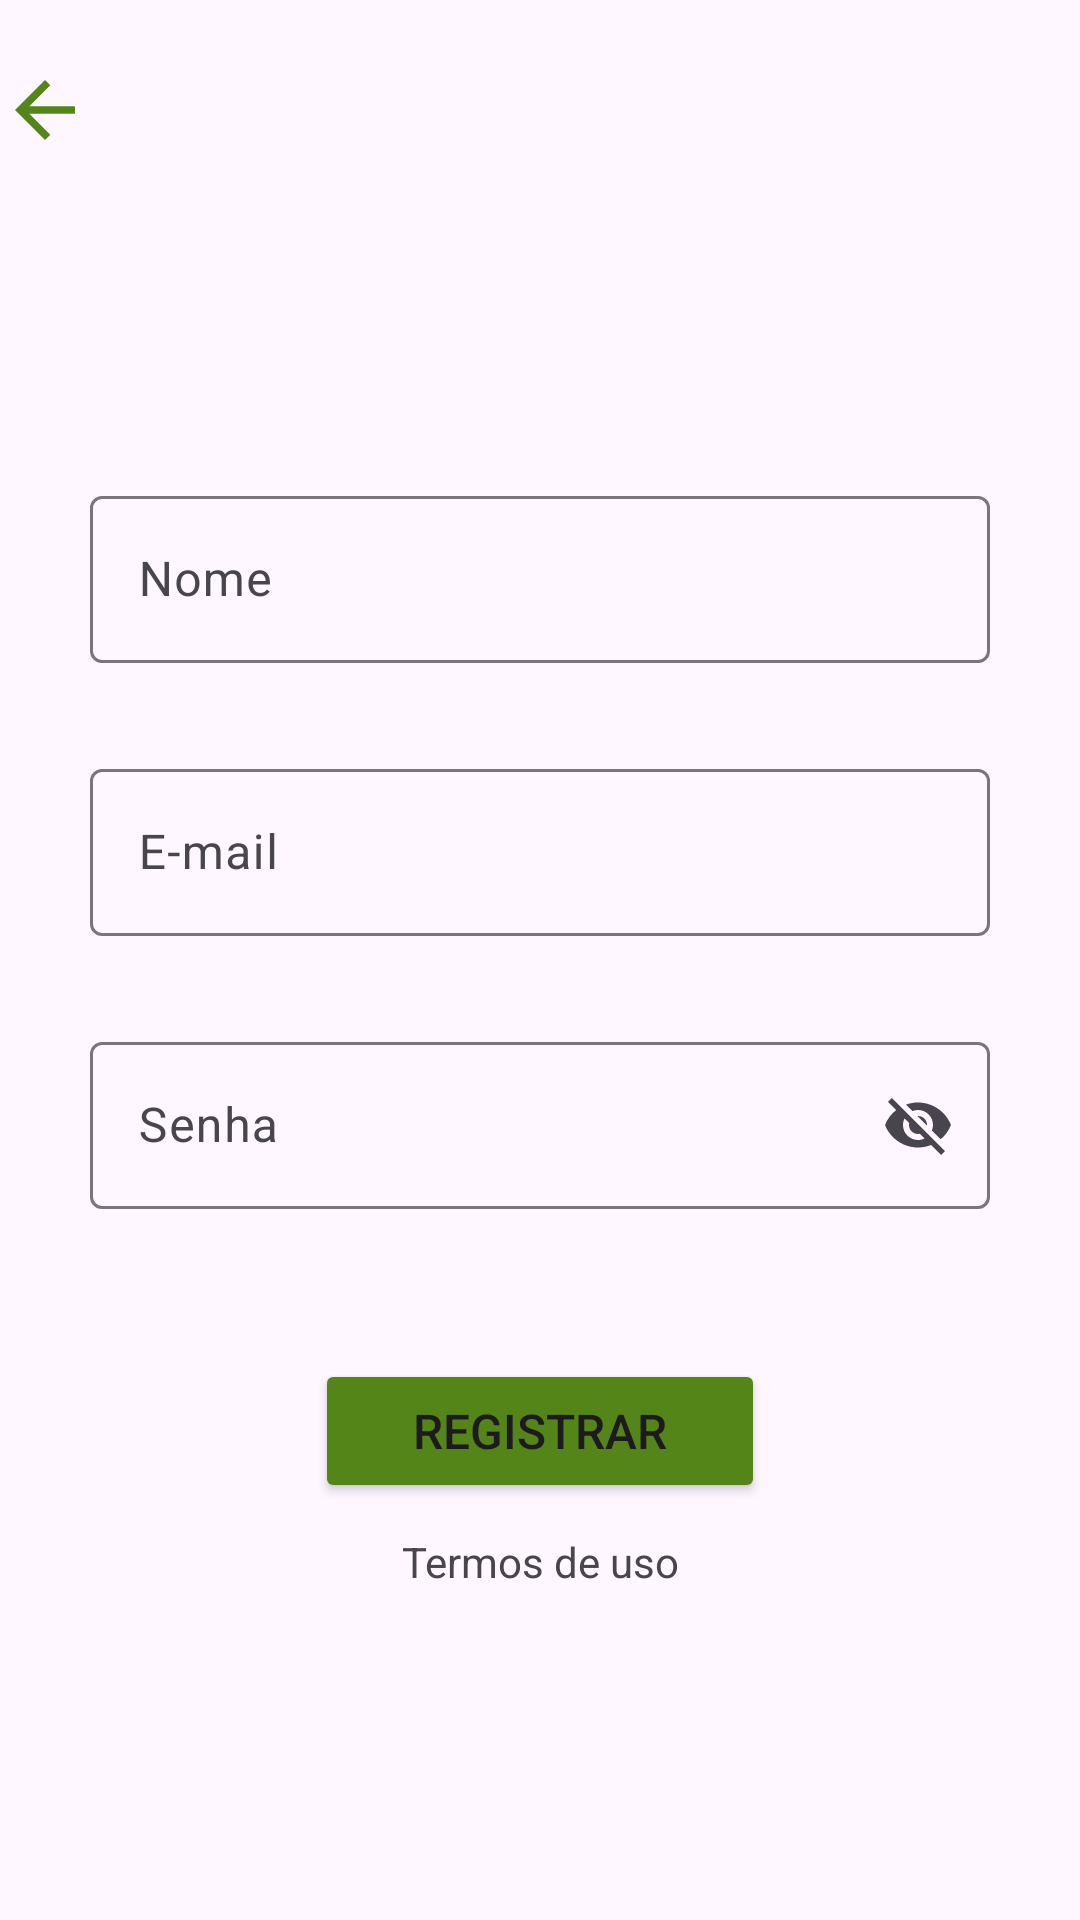

Locate icon controls on the screen. Image size 1080×1920, boxes as (x1, y1, x2, y2).
voltar: (15, 80, 75, 140)
